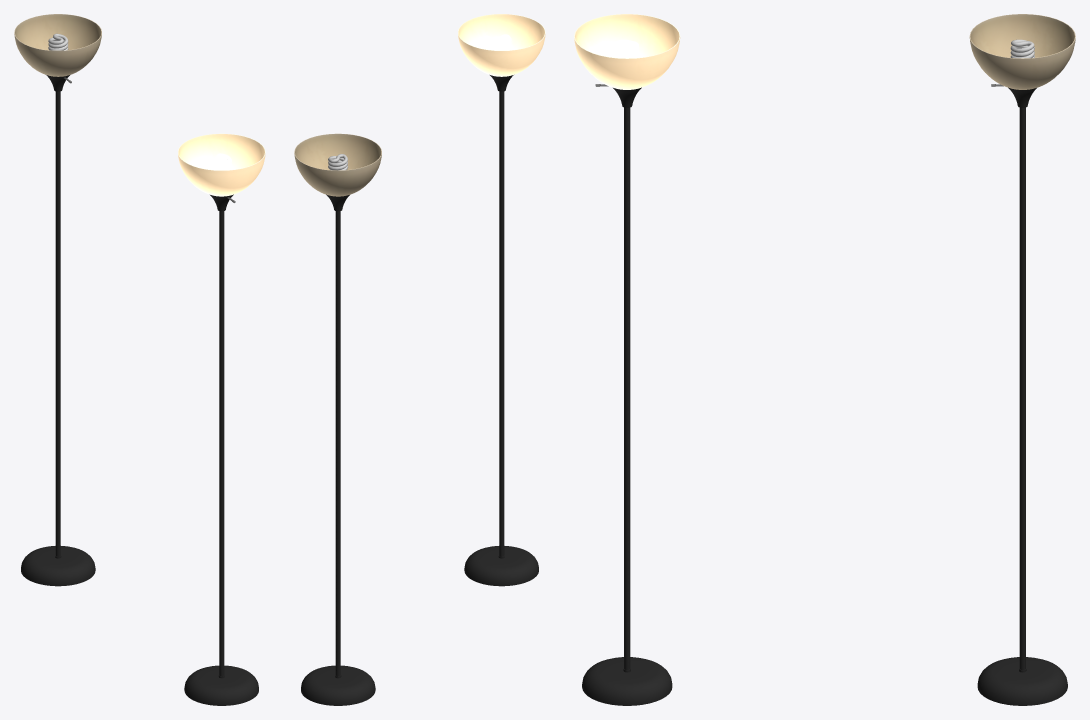
Rendered from floor_lamp.glb.
The picture shows the model from 3 angles, left to right: view 1: azimuth 30°, elevation 25°; view 2: azimuth 150°, elevation 25°; view 3: azimuth 270°, elevation 25°; orthographic projection. The views are drawn at different scales.
Parts seen in each view (by area): view 1: StandingLampA, StandingLamp1; view 2: StandingLamp1, StandingLampA; view 3: StandingLampA, StandingLamp1.
Part boxes in pixels (x1,y1,x2,y2): StandingLampA: (178, 133, 265, 705); StandingLamp1: (14, 14, 101, 586); StandingLamp1: (294, 133, 381, 705); StandingLampA: (458, 14, 545, 586); StandingLampA: (574, 14, 680, 705); StandingLamp1: (969, 14, 1075, 705).
Bounding box in the file's own units: 0.2686 × 1.81 × 1.27.
Materials: 2 (2 with a texture image).
